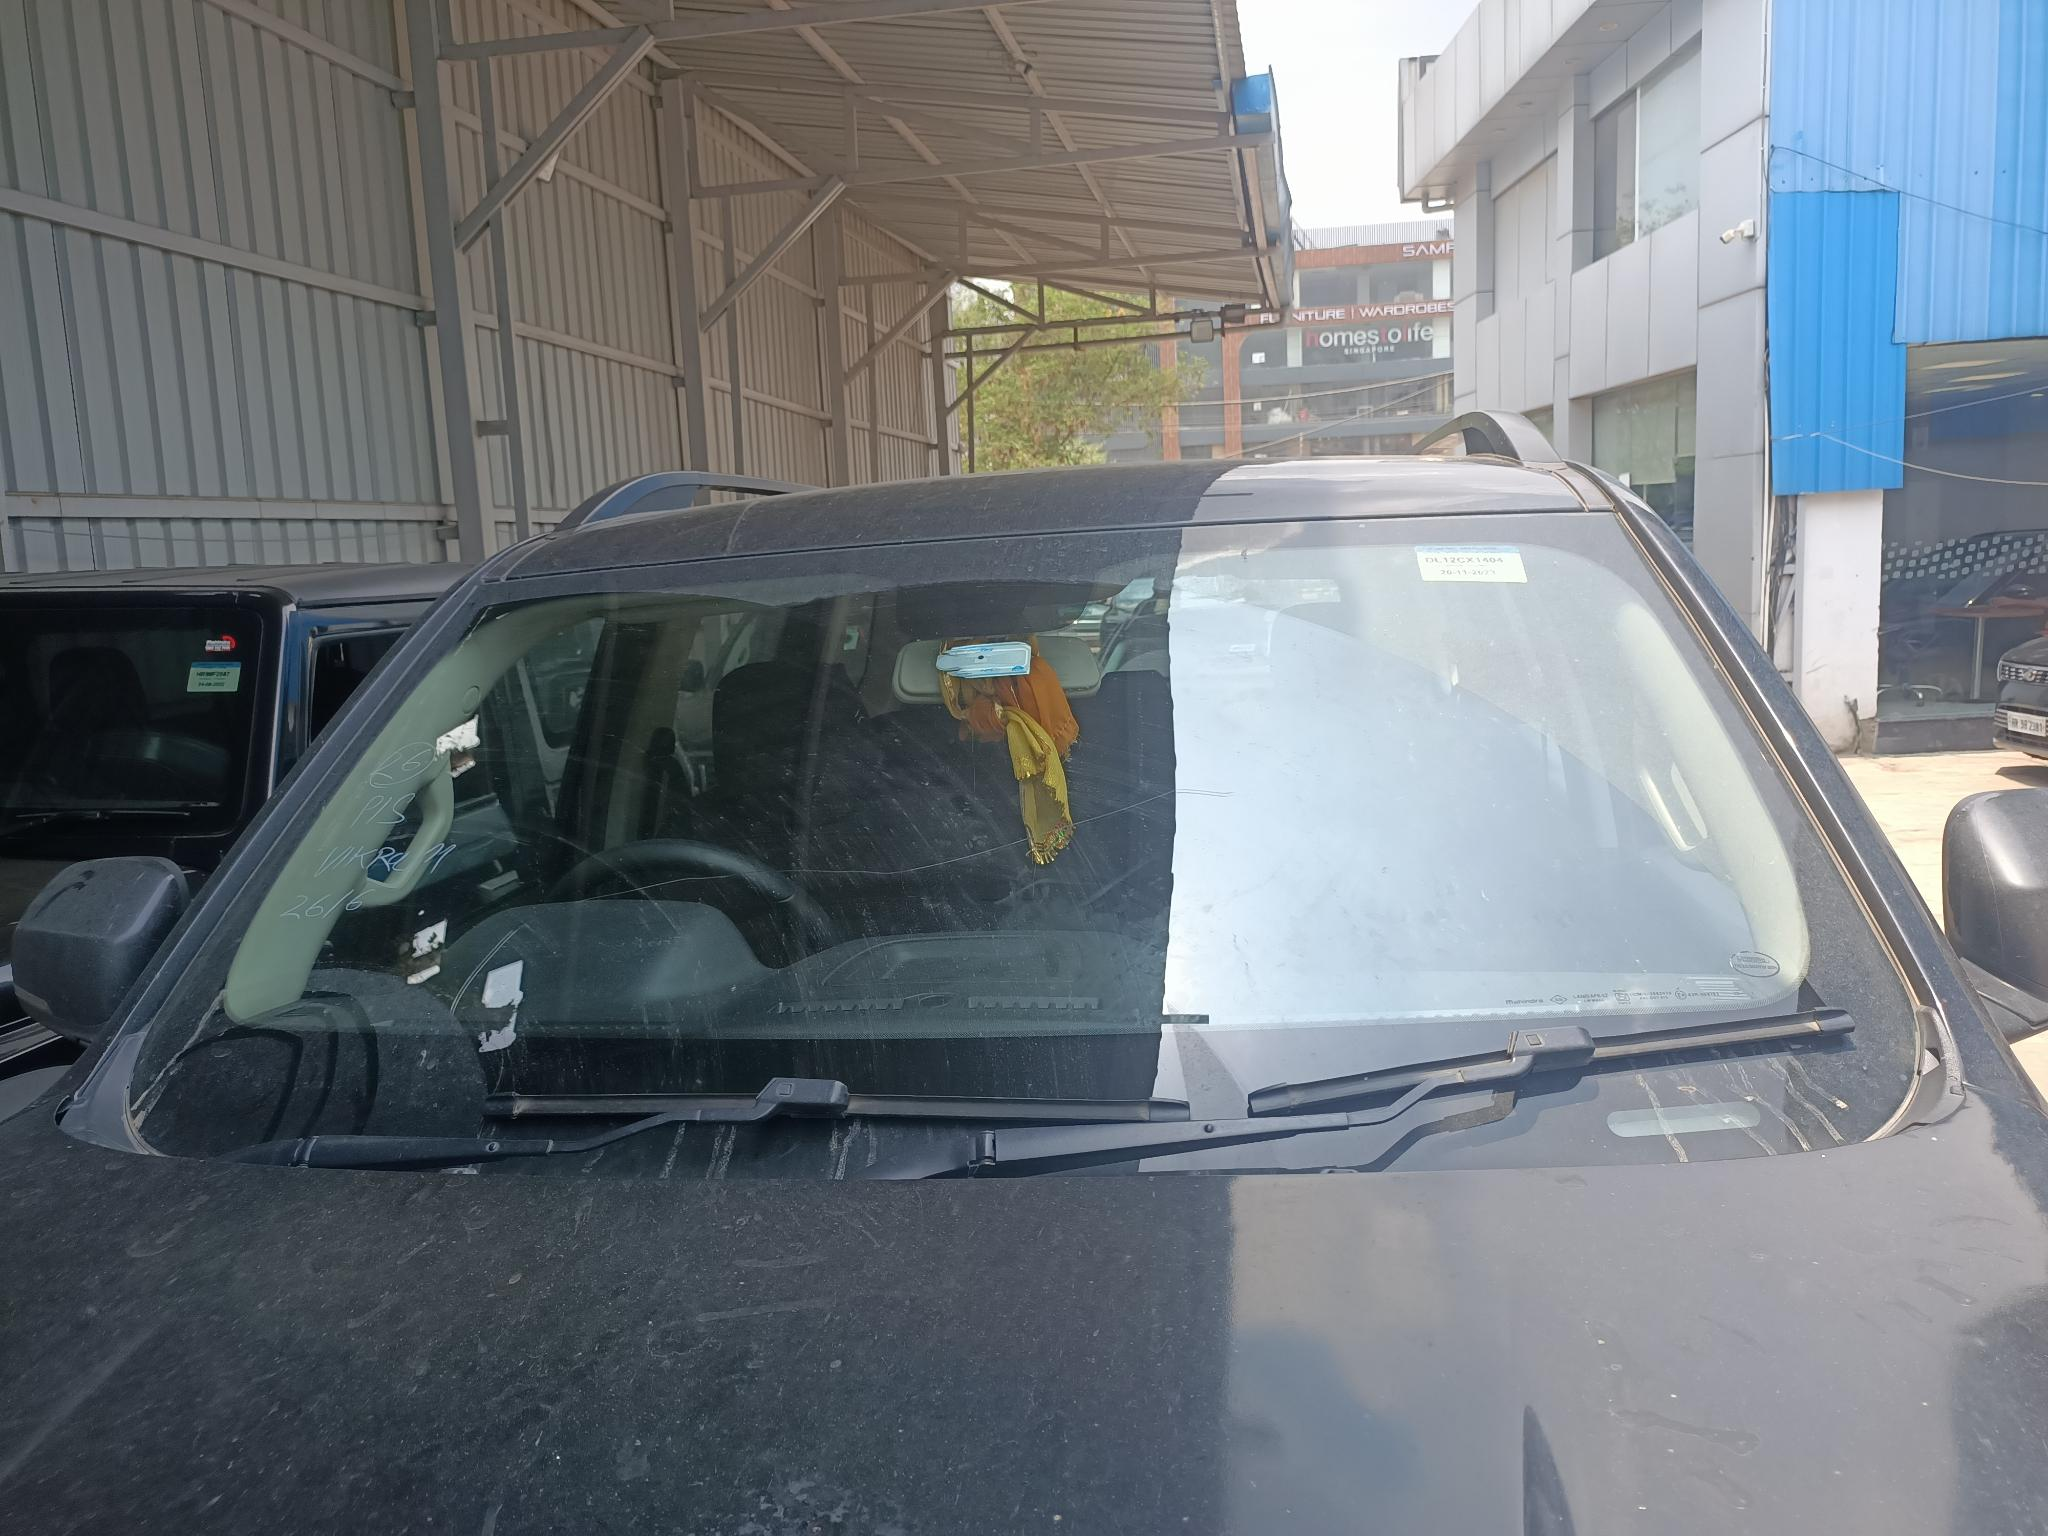FastTag: (924, 628, 1048, 692)
not a FastTag: (1414, 534, 1536, 594)
